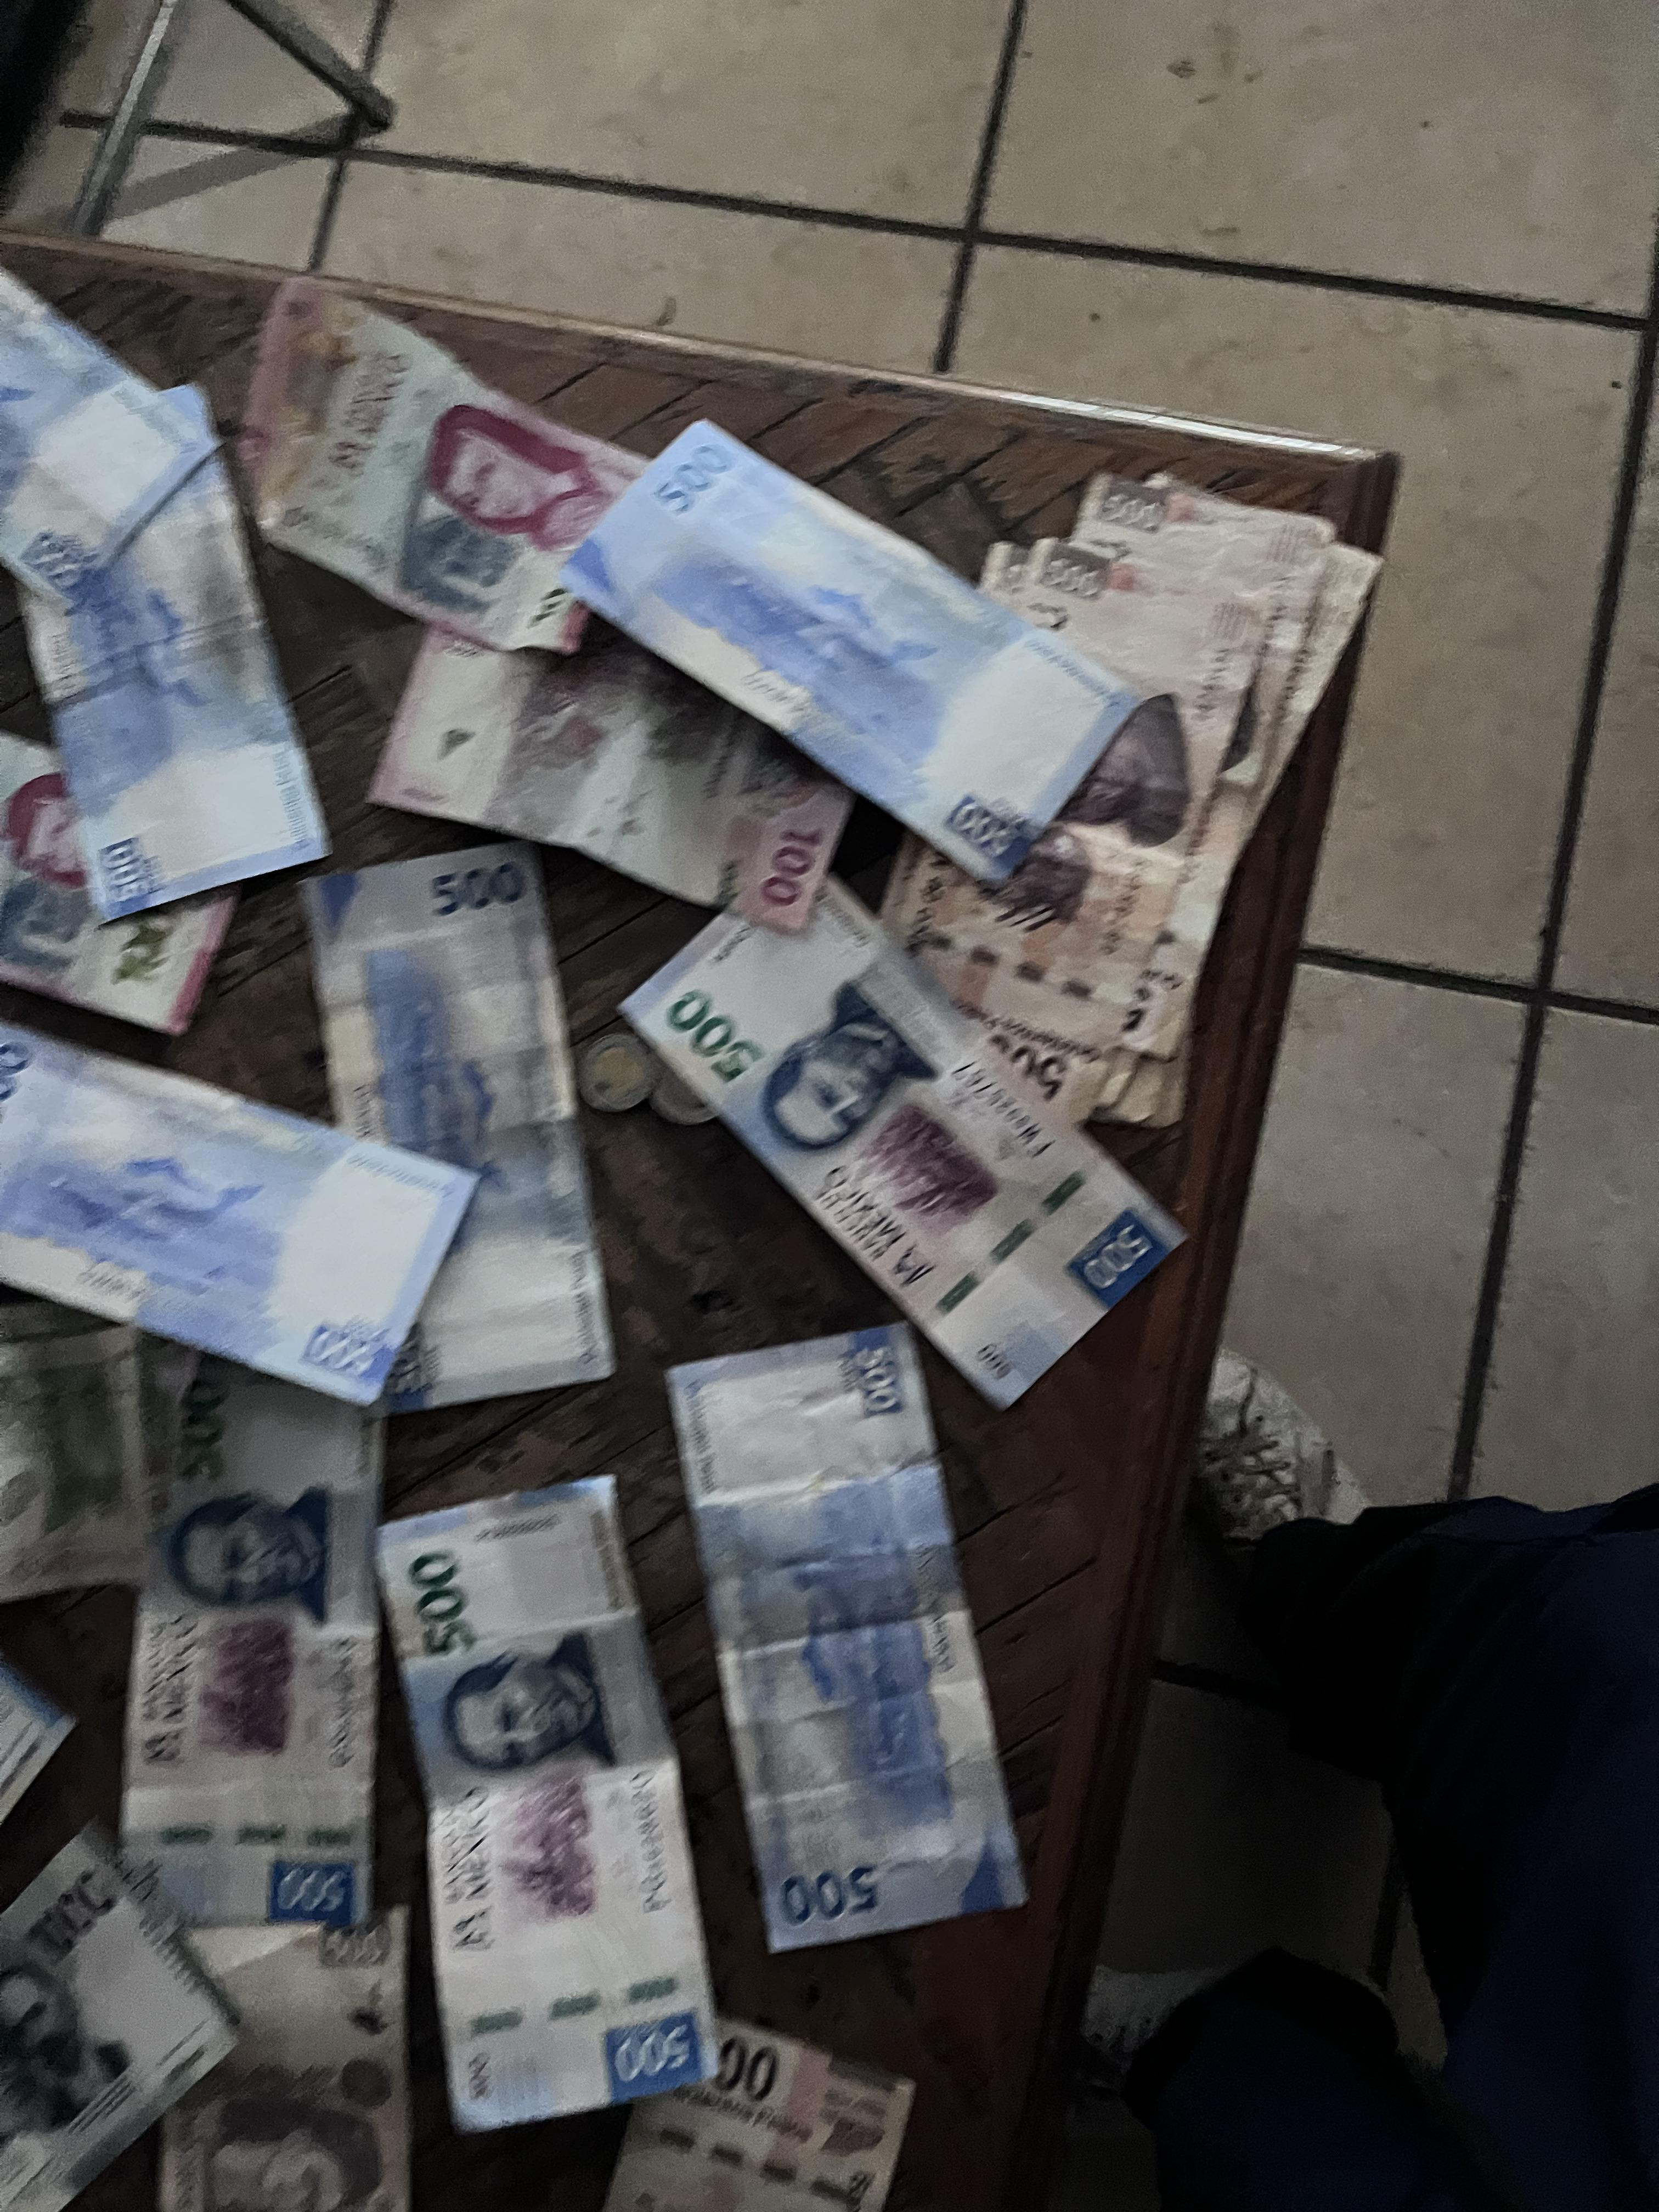100: (321, 594, 958, 944), (222, 239, 647, 669), (0, 679, 258, 1048)
1000: (0, 1808, 265, 2212)
500: (850, 321, 1332, 1239), (123, 1854, 512, 2212), (614, 2000, 915, 2212)
500 nuevo: (579, 840, 1267, 1404), (557, 392, 1158, 874), (634, 1317, 1071, 1971), (357, 1468, 744, 2140), (0, 974, 472, 1451), (277, 782, 613, 1427), (0, 387, 373, 920), (106, 1325, 397, 1945), (0, 250, 225, 590)
